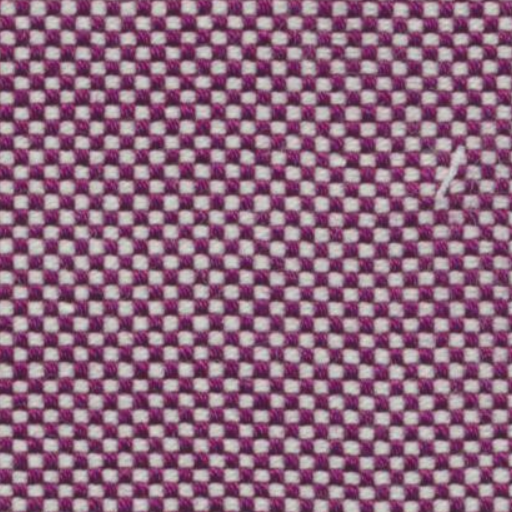DuanSha: (430, 135, 478, 215)
